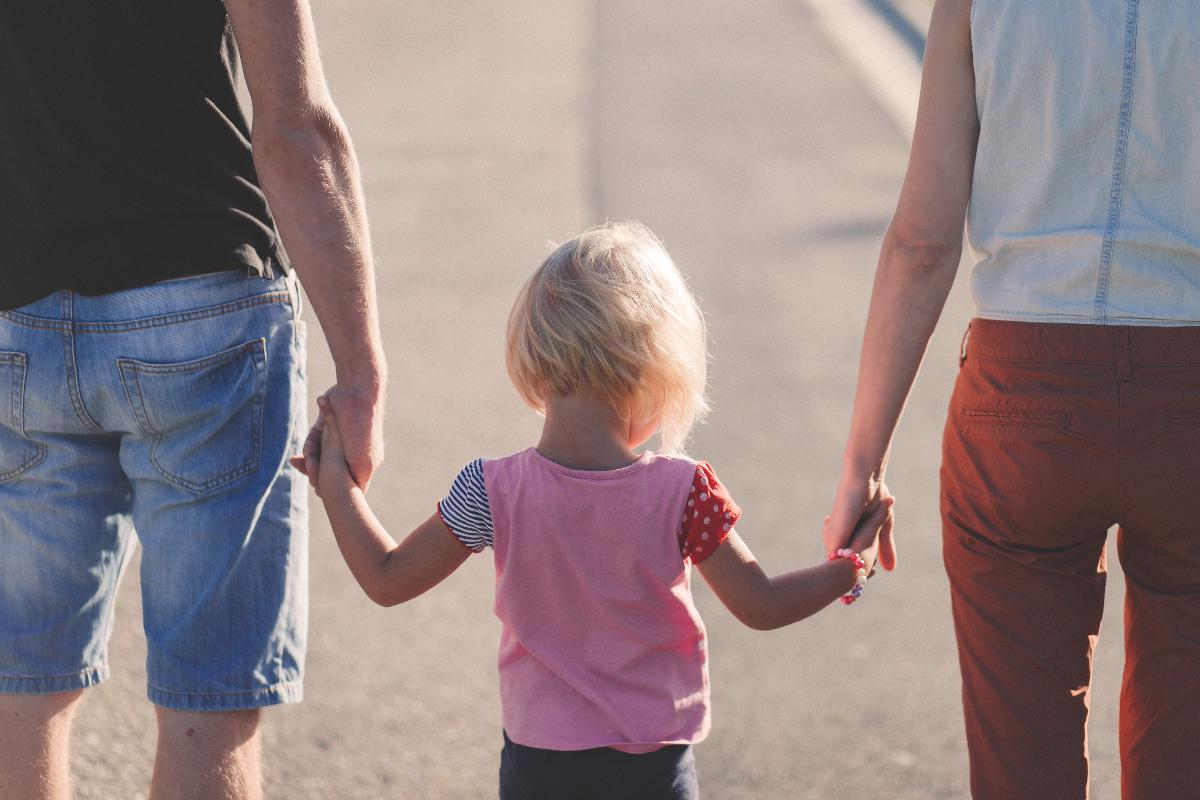Person: (1, 1, 386, 795), (302, 225, 827, 800), (830, 1, 1200, 799)
